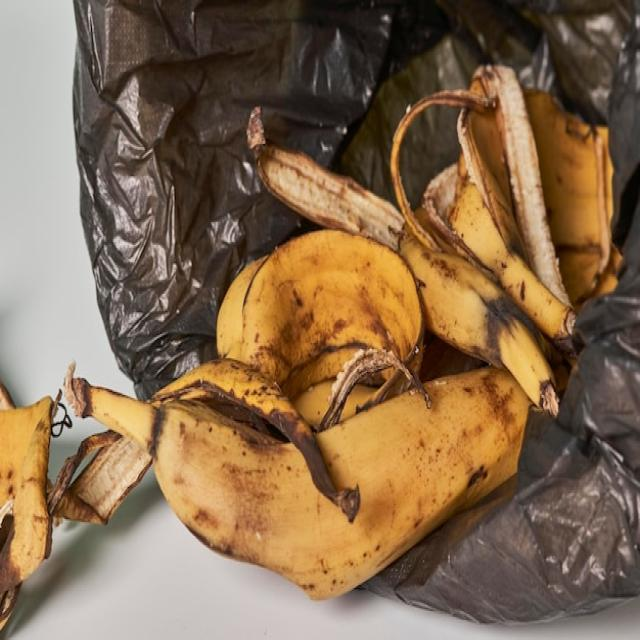banana_peel: (64, 369, 545, 615), (419, 49, 623, 355), (183, 216, 442, 428), (392, 199, 591, 431), (245, 97, 413, 239)
